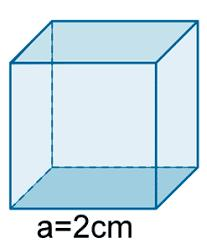cubos: (6, 16, 200, 213)
